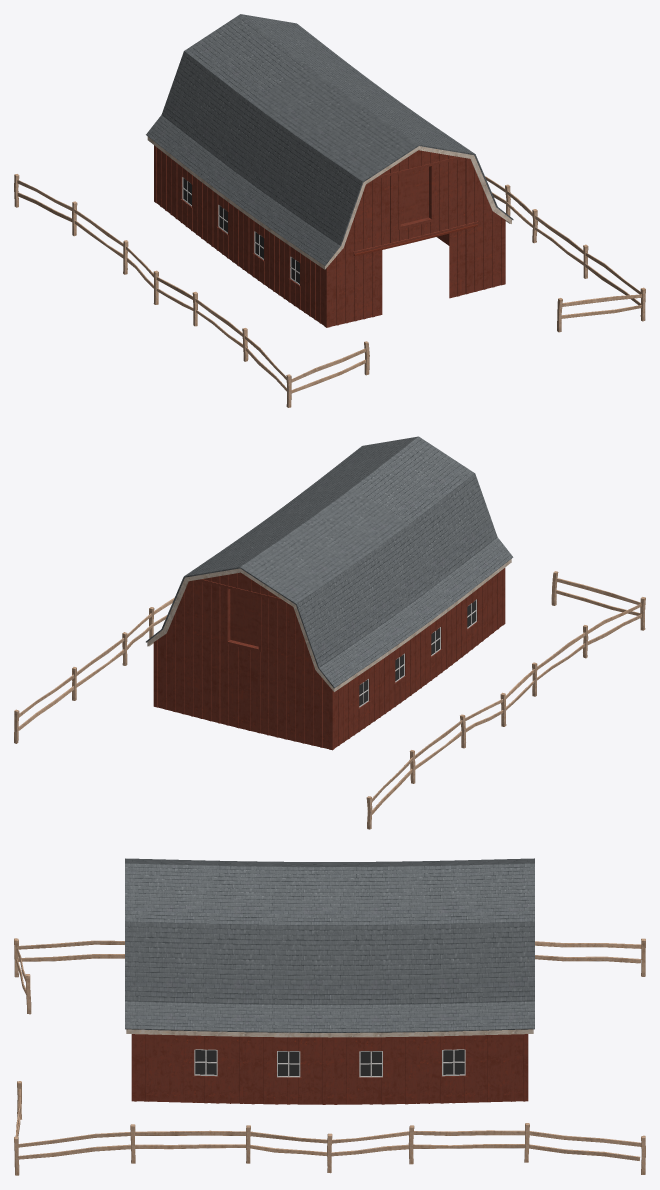
3 renders of one model, top to bottom at view 1: azimuth 30°, elevation 25°; view 2: azimuth 150°, elevation 25°; view 3: azimuth 270°, elevation 25°, orthographic. The views are drawn at different scales.
Visible parts, largest first — view 1: Barn_Roof-material, Barn_Walls-material, Fence-material.001, Fence-material, Fence-material.002, Barn_Windows-material; view 2: Barn_Roof-material, Barn_Walls-material, Fence-material.001, Fence-material, Fence-material.002, Barn_Windows-material; view 3: Barn_Roof-material, Barn_Walls-material, Fence-material.002, Fence-material.001, Fence-material, Barn_Windows-material.
Boxes of the visible parts, <box> form: Barn_Roof-material: <box>146,14,513,269</box>; Barn_Walls-material: <box>154,145,505,327</box>; Fence-material.001: <box>17,180,365,393</box>; Fence-material: <box>14,174,645,407</box>; Fence-material.002: <box>485,176,641,318</box>; Barn_Windows-material: <box>183,178,299,283</box>; Barn_Roof-material: <box>146,436,513,691</box>; Barn_Walls-material: <box>153,568,505,750</box>; Fence-material.001: <box>372,578,641,814</box>; Fence-material: <box>14,571,645,829</box>; Fence-material.002: <box>18,597,174,730</box>; Barn_Windows-material: <box>359,600,475,705</box>; Barn_Roof-material: <box>125,858,534,1037</box>; Barn_Walls-material: <box>131,1034,528,1104</box>; Fence-material.002: <box>15,1089,641,1160</box>; Fence-material.001: <box>16,940,641,994</box>; Fence-material: <box>14,938,645,1175</box>; Barn_Windows-material: <box>195,1050,464,1075</box>.
Bounding box in the file's own units: 1615 × 793 × 2142.
